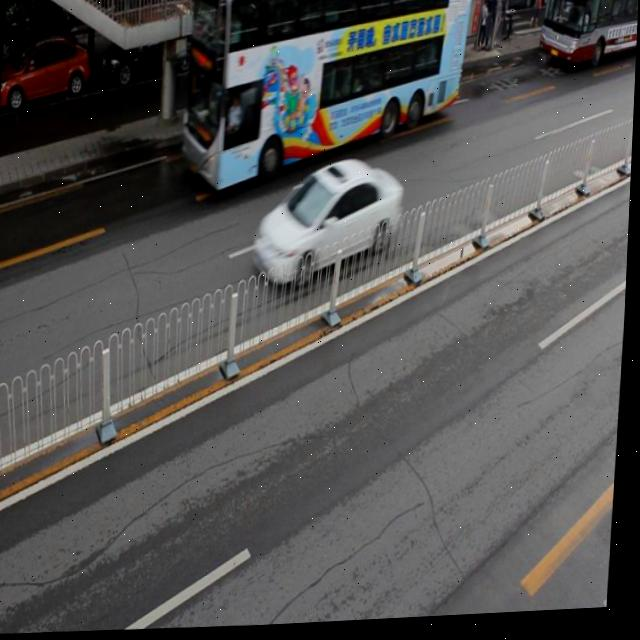car: (252, 158, 403, 293), (0, 29, 92, 106), (102, 13, 202, 81), (212, 0, 281, 60), (286, 0, 365, 45)
van: (180, 0, 472, 194), (538, 0, 640, 73)
